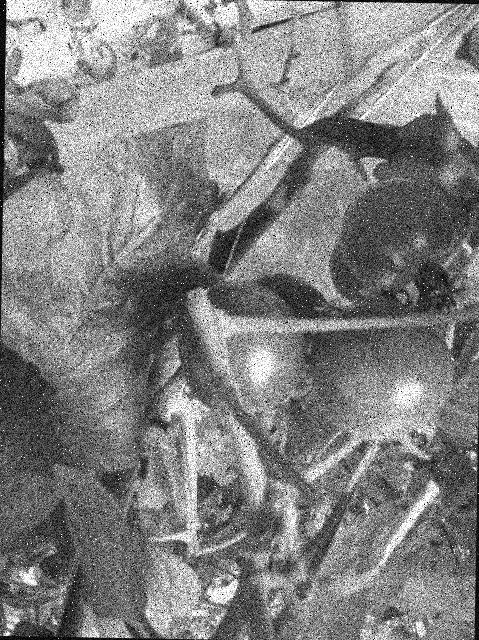l_fully_ripened: (174, 280, 306, 417), (245, 272, 332, 372), (149, 255, 224, 361)
l_green: (339, 177, 460, 292), (327, 234, 393, 303)
l_half_ripened: (307, 296, 454, 442)
